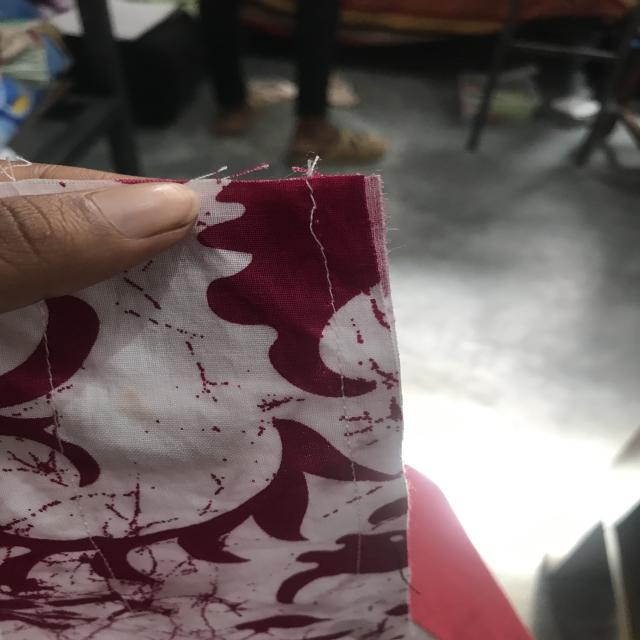skip: (291, 200, 346, 261)
